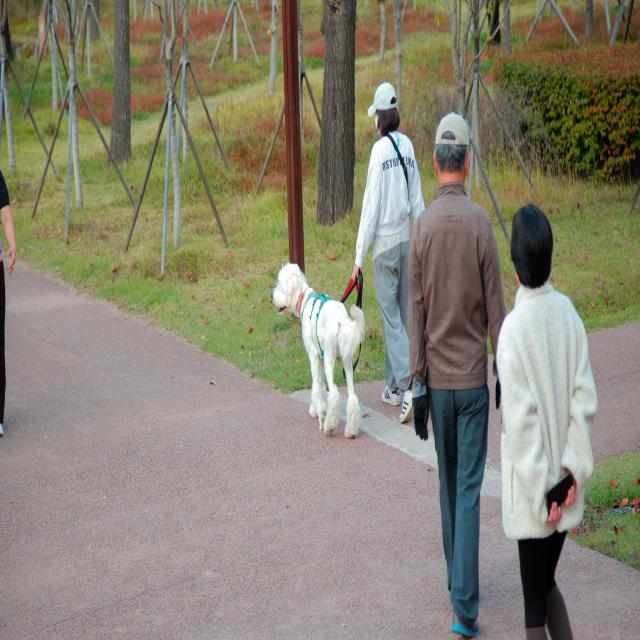Leashed_Dog: (271, 262, 384, 438)
